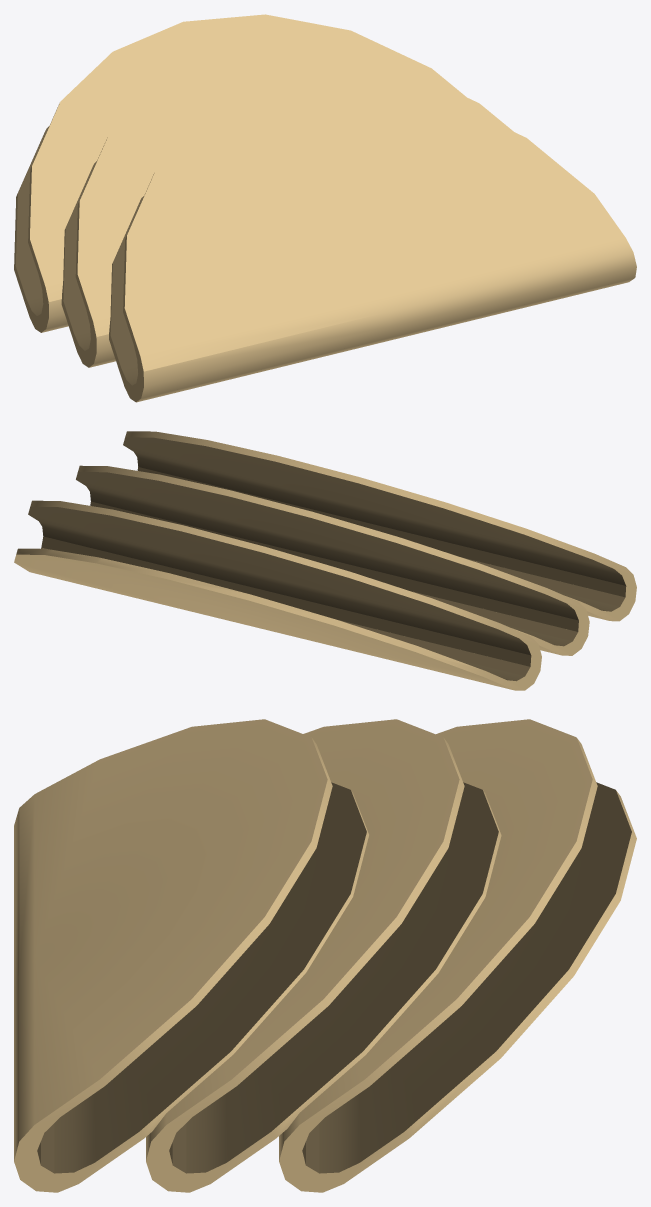
The model's file is tortillas.fbx.
The picture shows the model from 3 angles, top to bottom: view 1: azimuth 30°, elevation 25°; view 2: azimuth 150°, elevation 25°; view 3: azimuth 270°, elevation 25°; orthographic projection. The views are drawn at different scales.
Parts seen in each view (by area): view 1: pCylinder5, pCylinder7, pCylinder6; view 2: pCylinder7, pCylinder6, pCylinder5; view 3: pCylinder5, pCylinder7, pCylinder6.
Boxes of the visible parts, x1,y1,x2,y2 form: pCylinder5: (109,84,636,402); pCylinder7: (14,14,465,332); pCylinder6: (61,49,513,367); pCylinder7: (14,500,541,690); pCylinder6: (76,465,589,655); pCylinder5: (123,431,636,621); pCylinder5: (14,719,368,1192); pCylinder7: (279,719,636,1192); pCylinder6: (146,719,501,1192).
Size of the model in its own units: 47.82 by 16.33 by 37.4.
